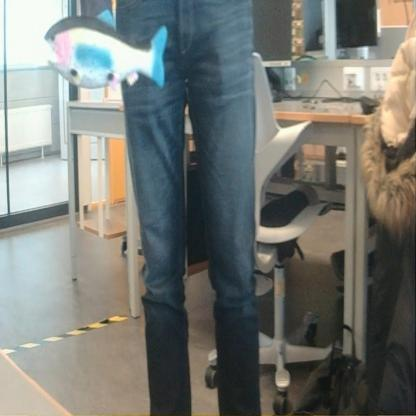rubberfish: (38, 6, 172, 97)
